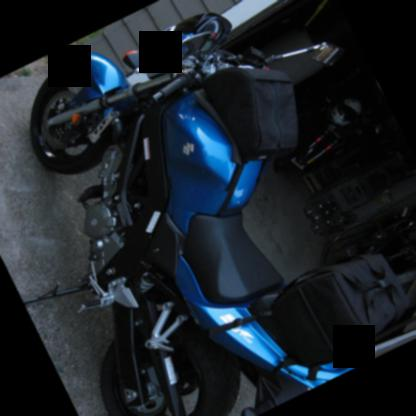suitcase: (259, 251, 411, 371)
